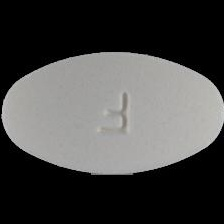65862-329: (0, 0, 224, 224)
